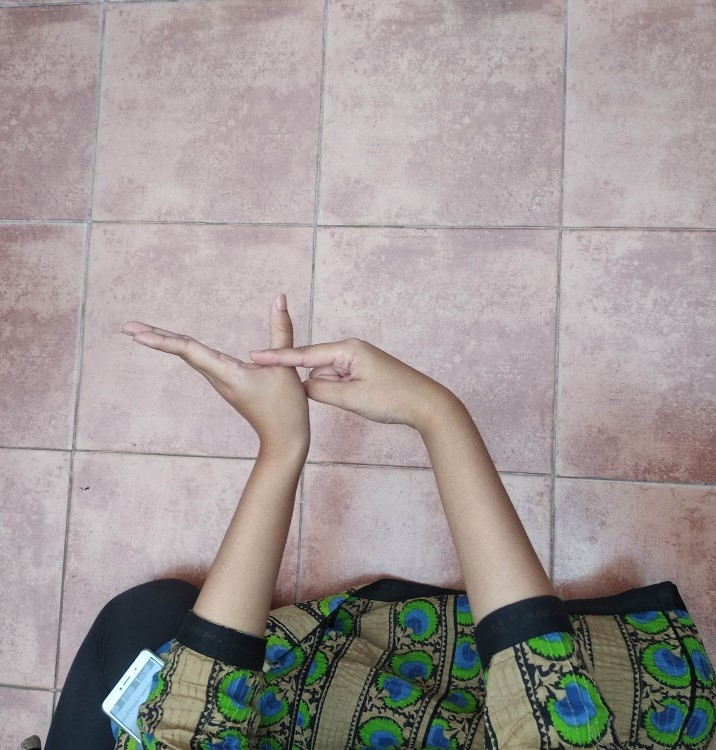dh: (111, 288, 461, 496)
